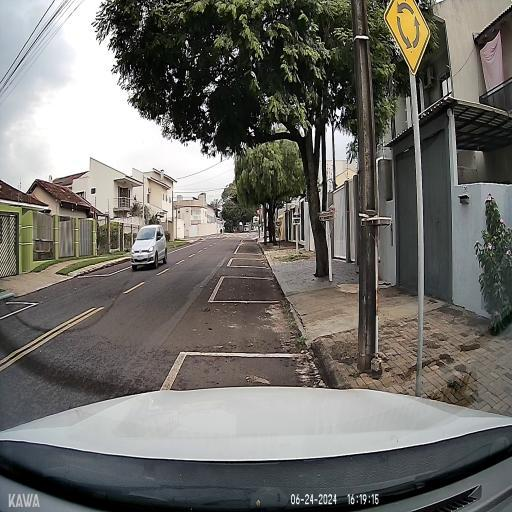A-12: (383, 0, 431, 75)
